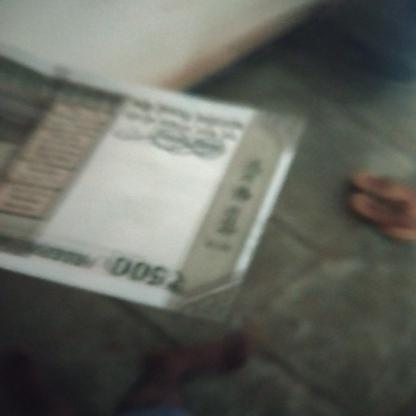New500Back: (0, 57, 262, 301)
